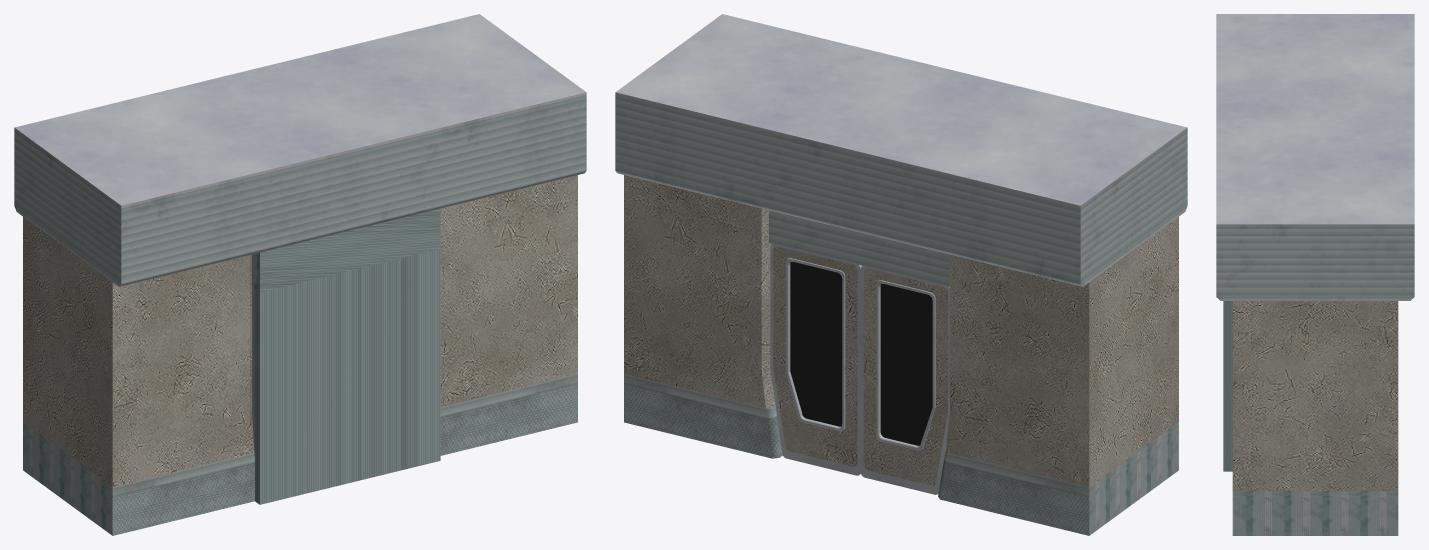
File: metrooo.fbx
3 views of the same model, side by side, from view 1: azimuth 30°, elevation 25°; view 2: azimuth 150°, elevation 25°; view 3: azimuth 270°, elevation 25° (orthographic). The views are drawn at different scales.
Parts seen in each view (by area): view 1: MetroEndBack; view 2: MetroEndBack, MetroEnd_Left, MetroEnd_Right; view 3: MetroEndBack.
Part boxes in pixels (x1,y1,x2,y2): MetroEndBack: (14,14,586,535); MetroEndBack: (615,14,1187,535); MetroEnd_Left: (770,244,862,475); MetroEnd_Right: (860,266,949,494); MetroEndBack: (1216,14,1414,535).
Size of the model in its own units: 600 by 415 by 239.
7 materials, 6 textured.
